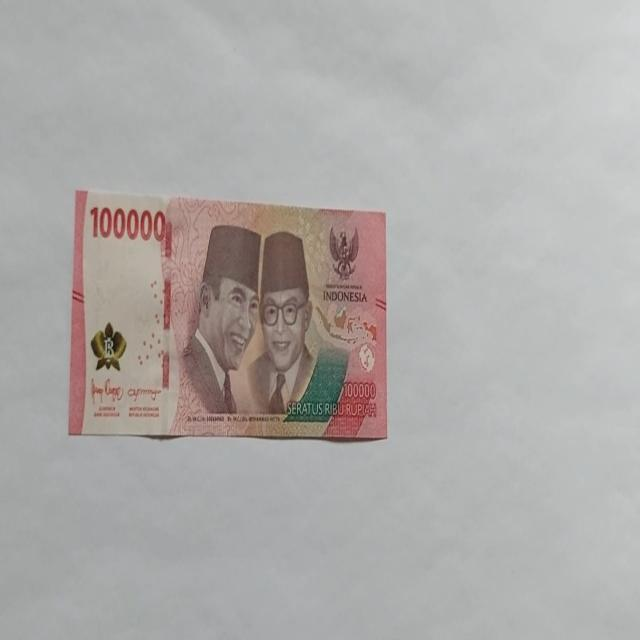seratus ribu rupiah: (68, 187, 388, 441)
